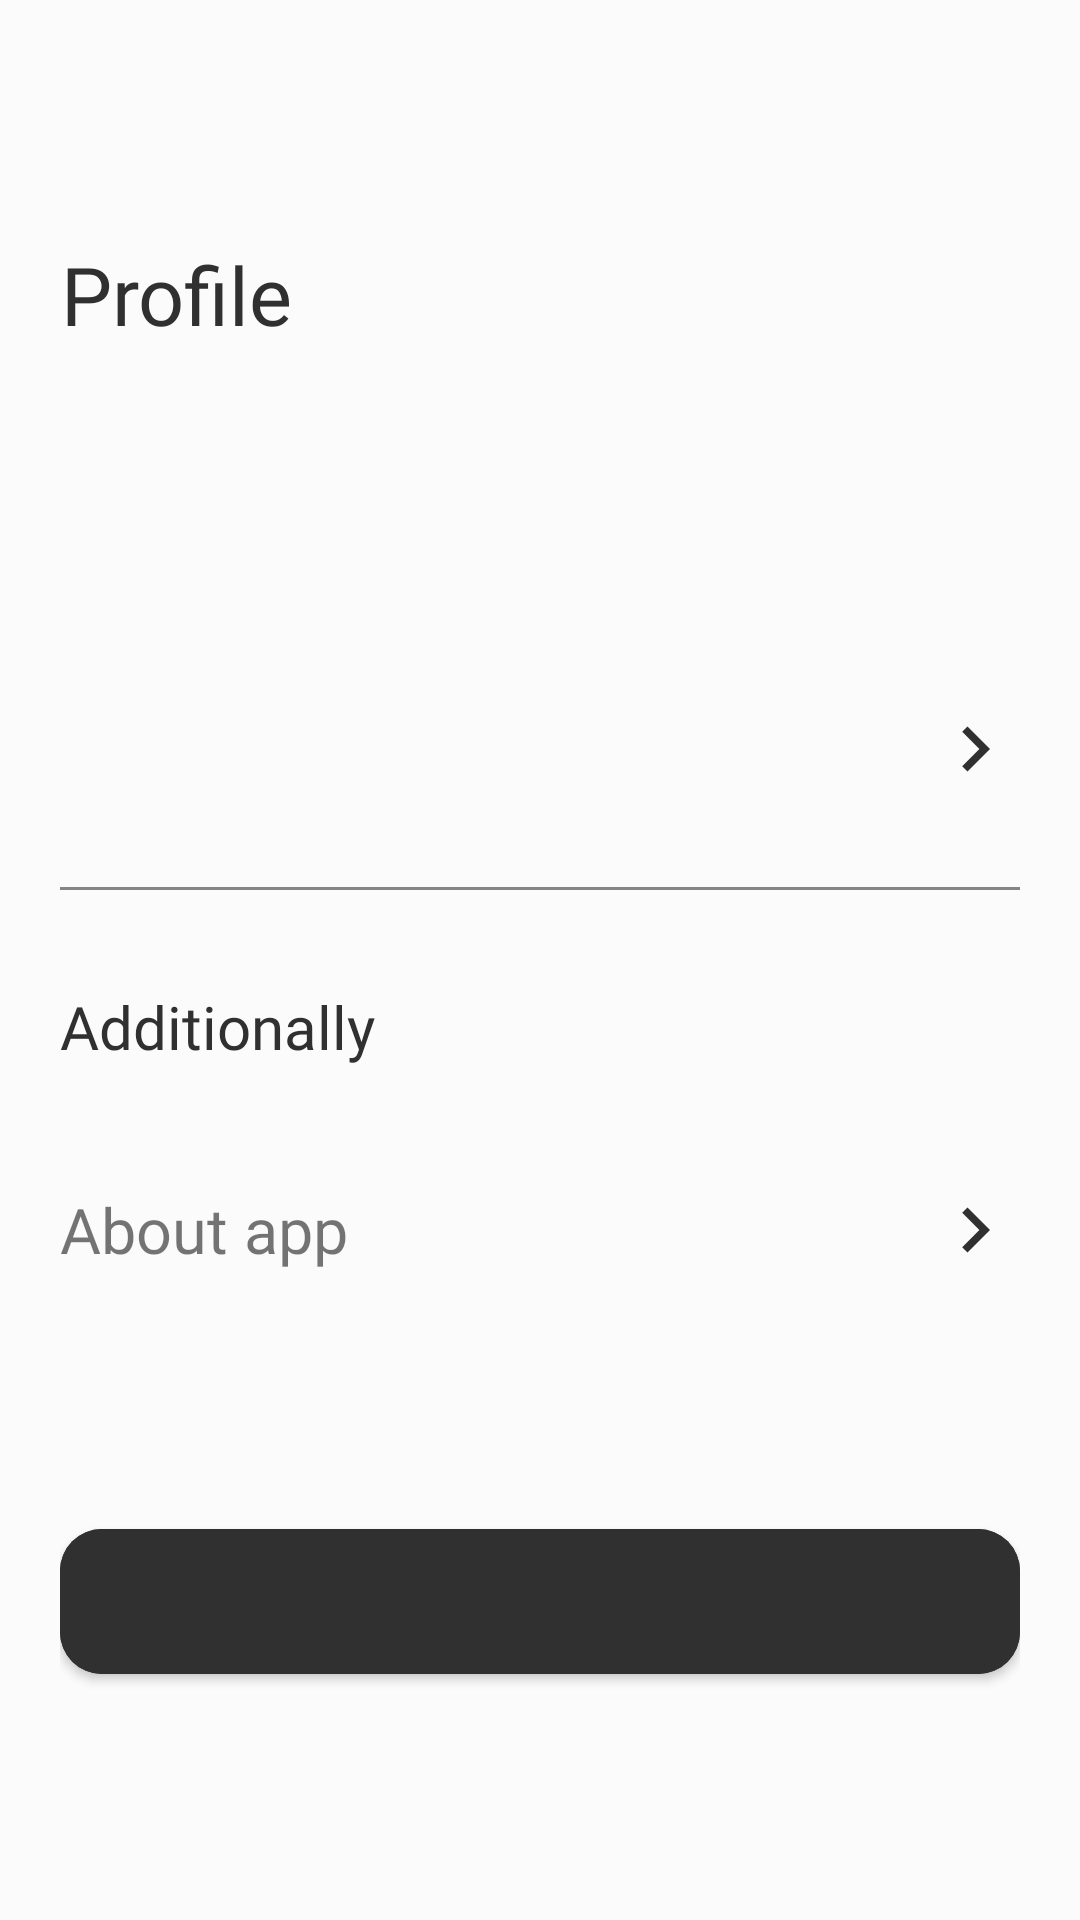

Icon click points for this 1080*1920 phone screenshot, format [x,y]:
next: [976,749], [976,1230]
